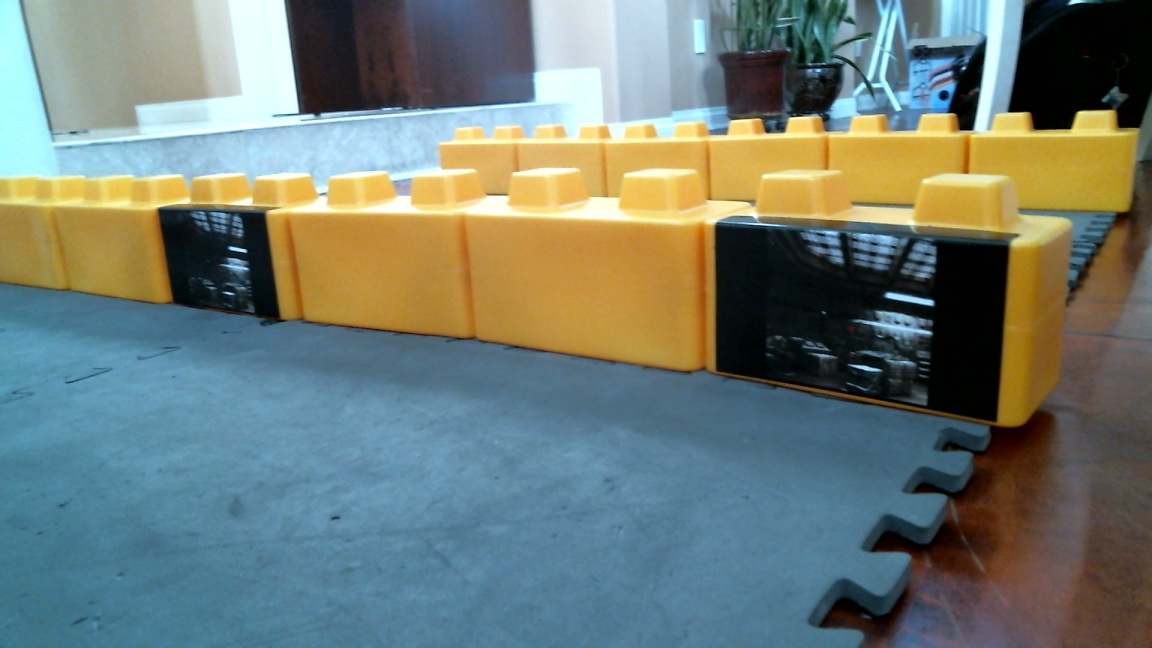skystone: (712, 172, 1026, 424), (167, 173, 303, 320)
stone: (479, 169, 703, 371), (299, 173, 471, 335), (53, 175, 167, 300), (1, 174, 66, 287)
